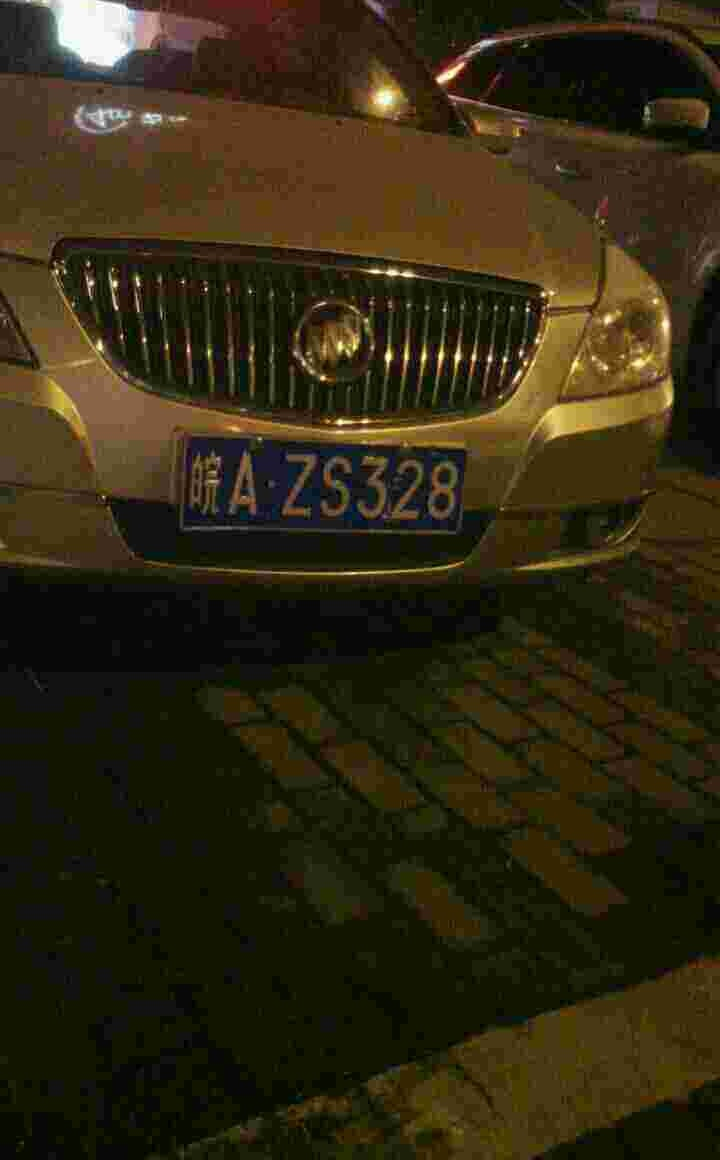license_plate: (168, 428, 467, 533)
